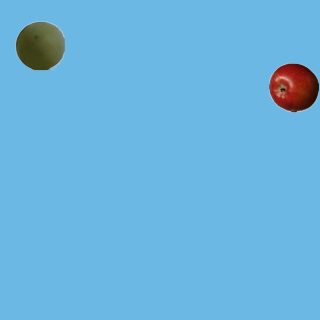Apple Braeburn: (268, 62, 318, 112)
Grape White 4: (14, 20, 64, 70)
